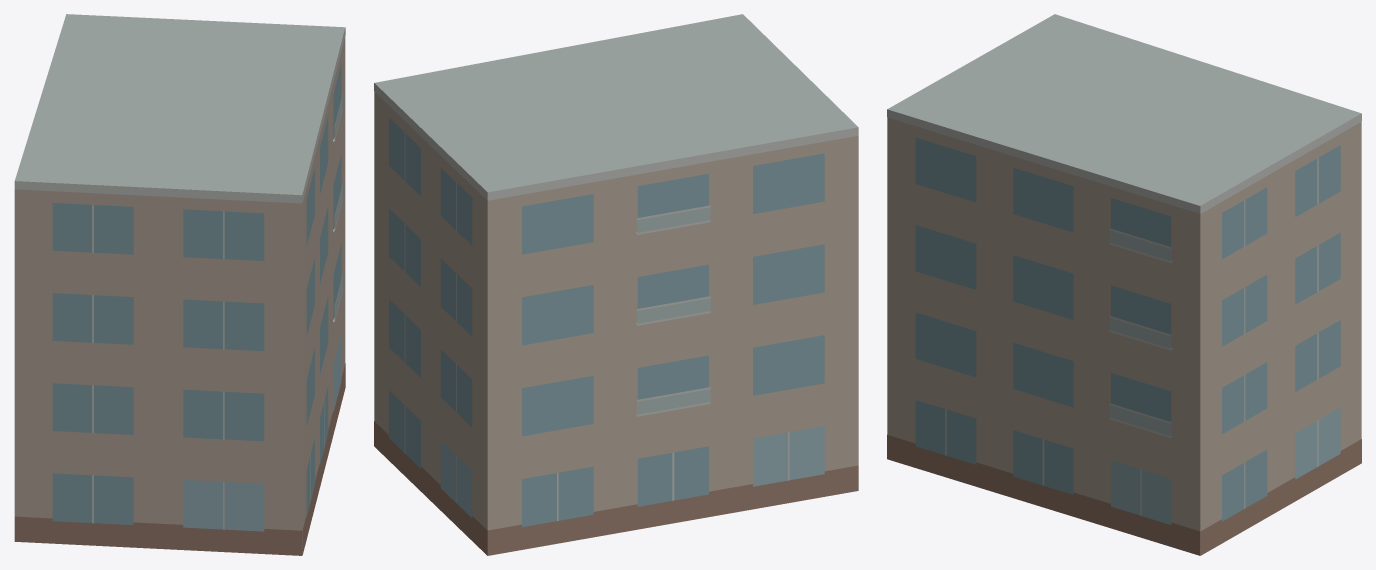
File: survey-upis-32578800.glb
3 views of the same model, side by side, from view 1: azimuth 30°, elevation 25°; view 2: azimuth 150°, elevation 25°; view 3: azimuth 270°, elevation 25° (orthographic). The views are drawn at different scales.
Parts seen in each view (by area): view 1: survey-upis-32578800.tmp; view 2: survey-upis-32578800.tmp; view 3: survey-upis-32578800.tmp.
Part boxes in pixels (x1,y1,x2,y2): survey-upis-32578800.tmp: (14, 14, 345, 555); survey-upis-32578800.tmp: (374, 14, 858, 555); survey-upis-32578800.tmp: (887, 14, 1361, 555).
Bounding box in the file's own units: 12.49 × 10.6 × 13.04.
